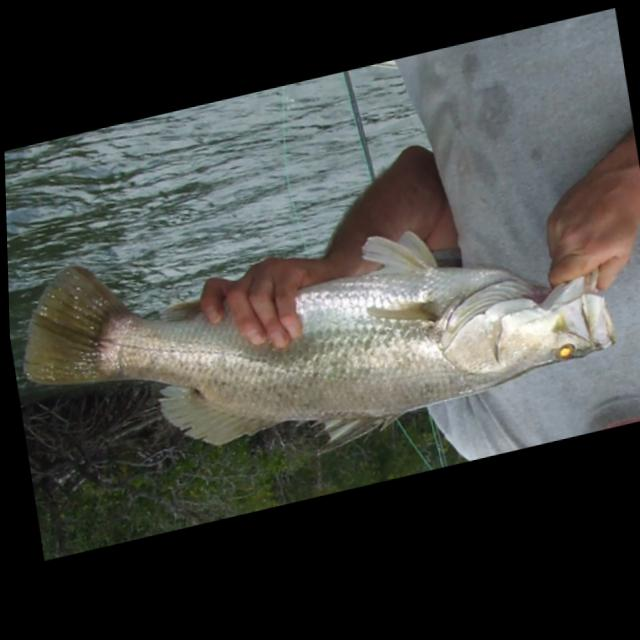Seabass: (6, 144, 626, 520)
